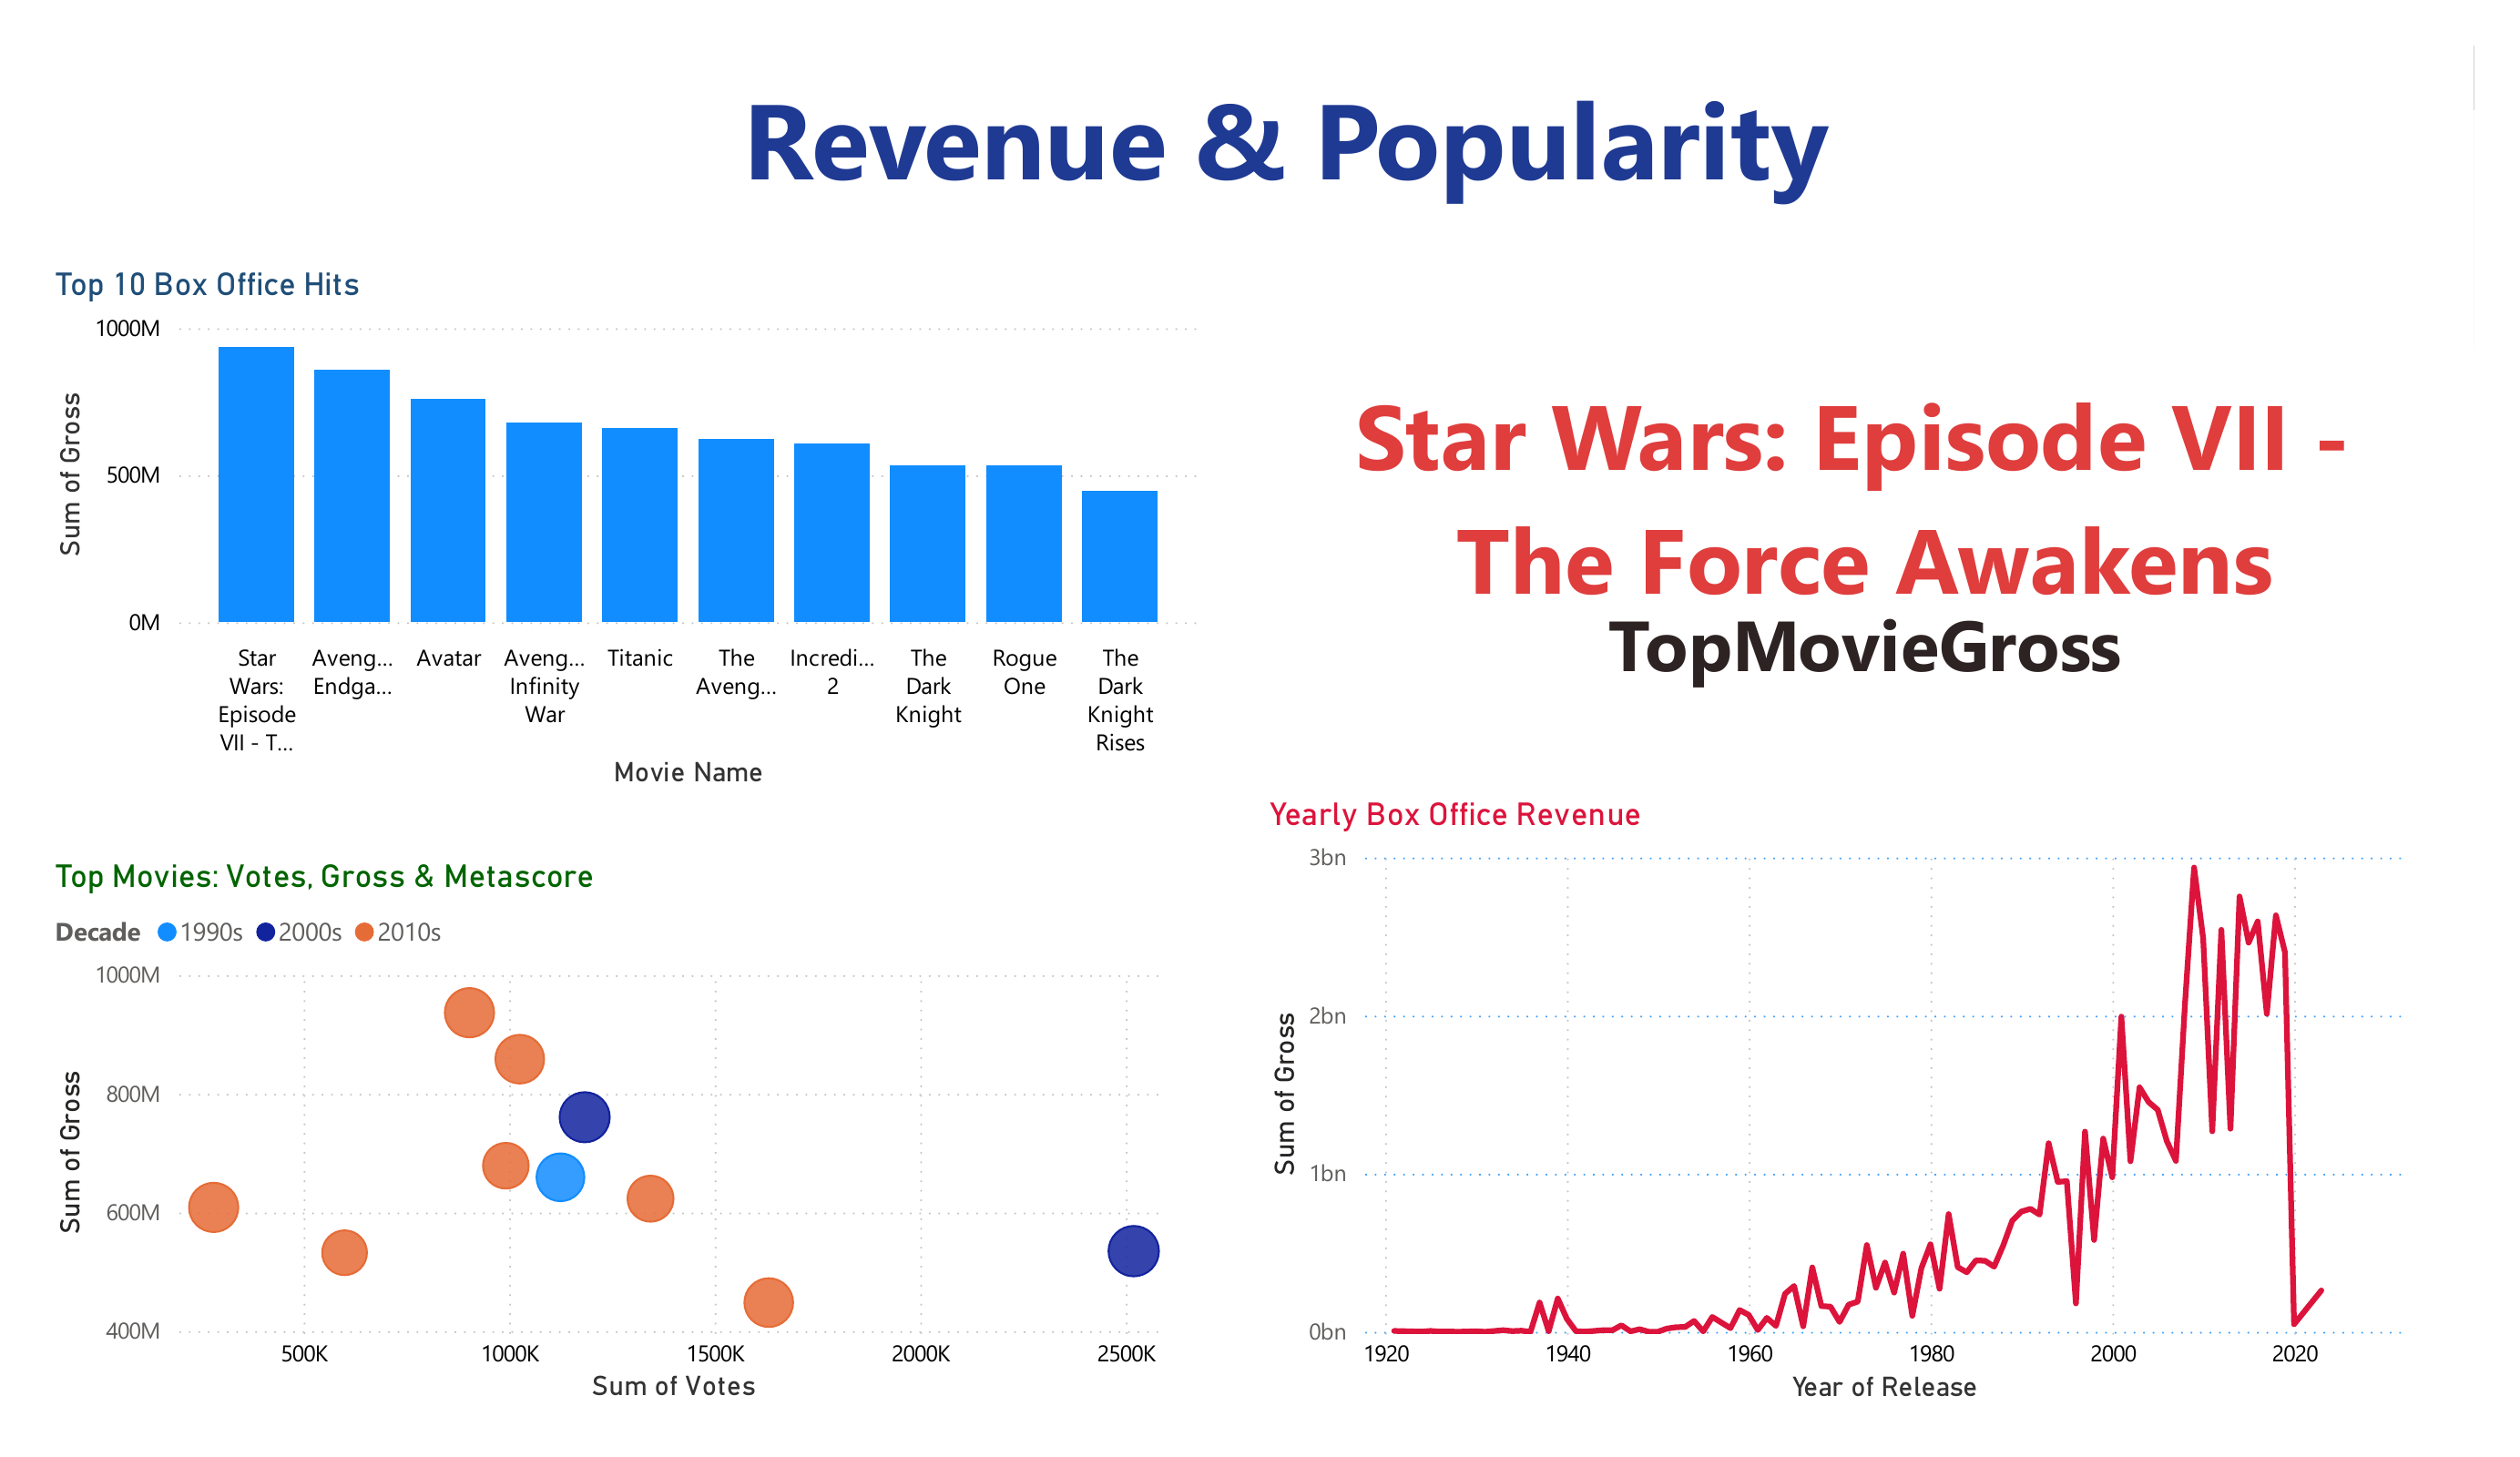

This screenshot's page, from the dashboard's own definition file:
{"tool":"powerbi","page":{"name":"Page 2","canvas":[1280,720],"ordinal":1},"visuals":[{"type":"clusteredColumnChart","title":"Top 10 Box Office Hits","fields":{"Category":["Cleaned_Top_Ranked_Real_Movies_Dataset.Movie Name"],"Y":["Sum(Cleaned_Top_Ranked_Real_Movies_Dataset.Gross)"]},"box":[0,128,612,280],"z":0},{"type":"scatterChart","title":"Top Movies: Votes, Gross & Metascore","fields":{"Category":["Cleaned_Top_Ranked_Real_Movies_Dataset.Movie Name"],"X":["Sum(Cleaned_Top_Ranked_Real_Movies_Dataset.Votes)"],"Y":["Sum(Cleaned_Top_Ranked_Real_Movies_Dataset.Gross)"],"Size":["Sum(Cleaned_Top_Ranked_Real_Movies_Dataset.Meatscore of movie)"],"Series":["Cleaned_Top_Ranked_Real_Movies_Dataset.csv.Decade"]},"box":[0,397.3,611.8,292.7],"z":1000},{"type":"lineChart","title":"Yearly Box Office Revenue","fields":{"Category":["Cleaned_Top_Ranked_Real_Movies_Dataset.csv.Year of Release"],"Y":["Sum(Cleaned_Top_Ranked_Real_Movies_Dataset.csv.Gross)"]},"box":[640,395,610,325],"z":2000},{"type":"card","fields":{"Values":["Cleaned_Top_Ranked_Real_Movies_Dataset.csv.TopMovieGross"]},"box":[654,128,610,250],"z":3000},{"type":"textbox","box":[148,18,984,110],"z":4000}]}

Visuals, with their boxes on the page's 1280x720 design canvas (x1, y1, x2, y2). These are canvas units, not pixel positions in the 2520x1457 screenshot, which may show the page scaled, cropped or inside an application window:
"Top 10 Box Office Hits" clusteredColumnChart: (0,128,612,408)
"Top Movies: Votes, Gross & Metascore" scatterChart: (0,397,612,690)
"Yearly Box Office Revenue" lineChart: (640,395,1250,720)
card - Cleaned_Top_Ranked_Real_Movies_Dataset.csv.TopMovieGross: (654,128,1264,378)
textbox: (148,18,1132,128)
